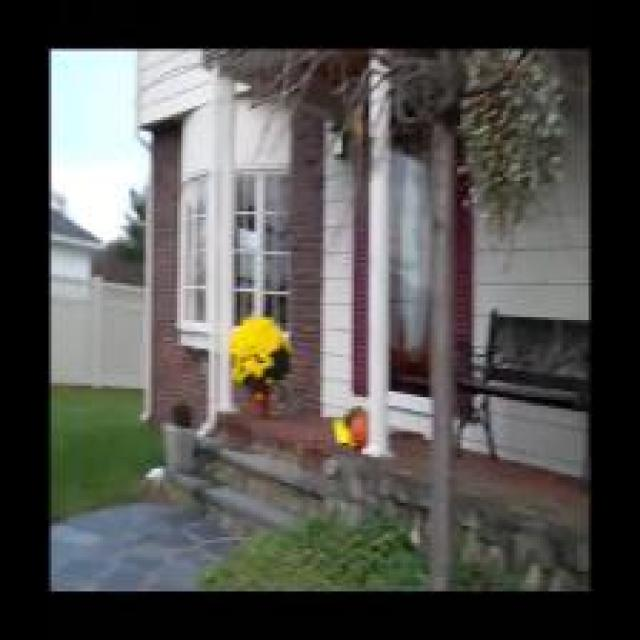other: (218, 306, 298, 392), (326, 401, 364, 450)
